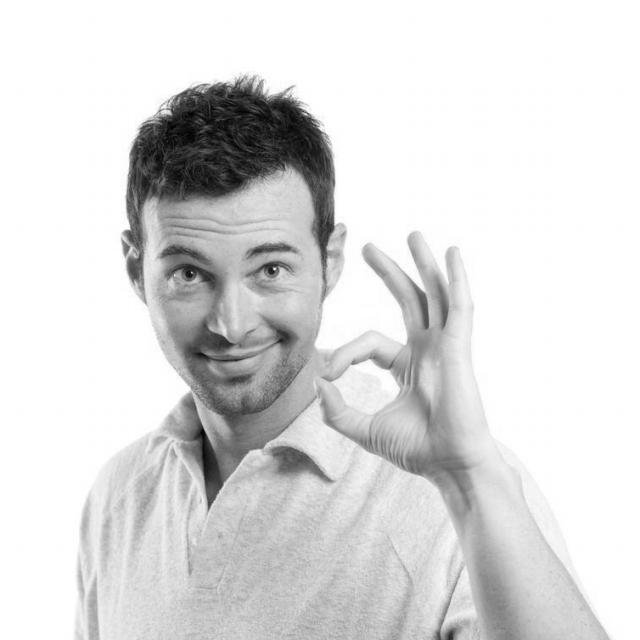perfect: (310, 222, 503, 484)
